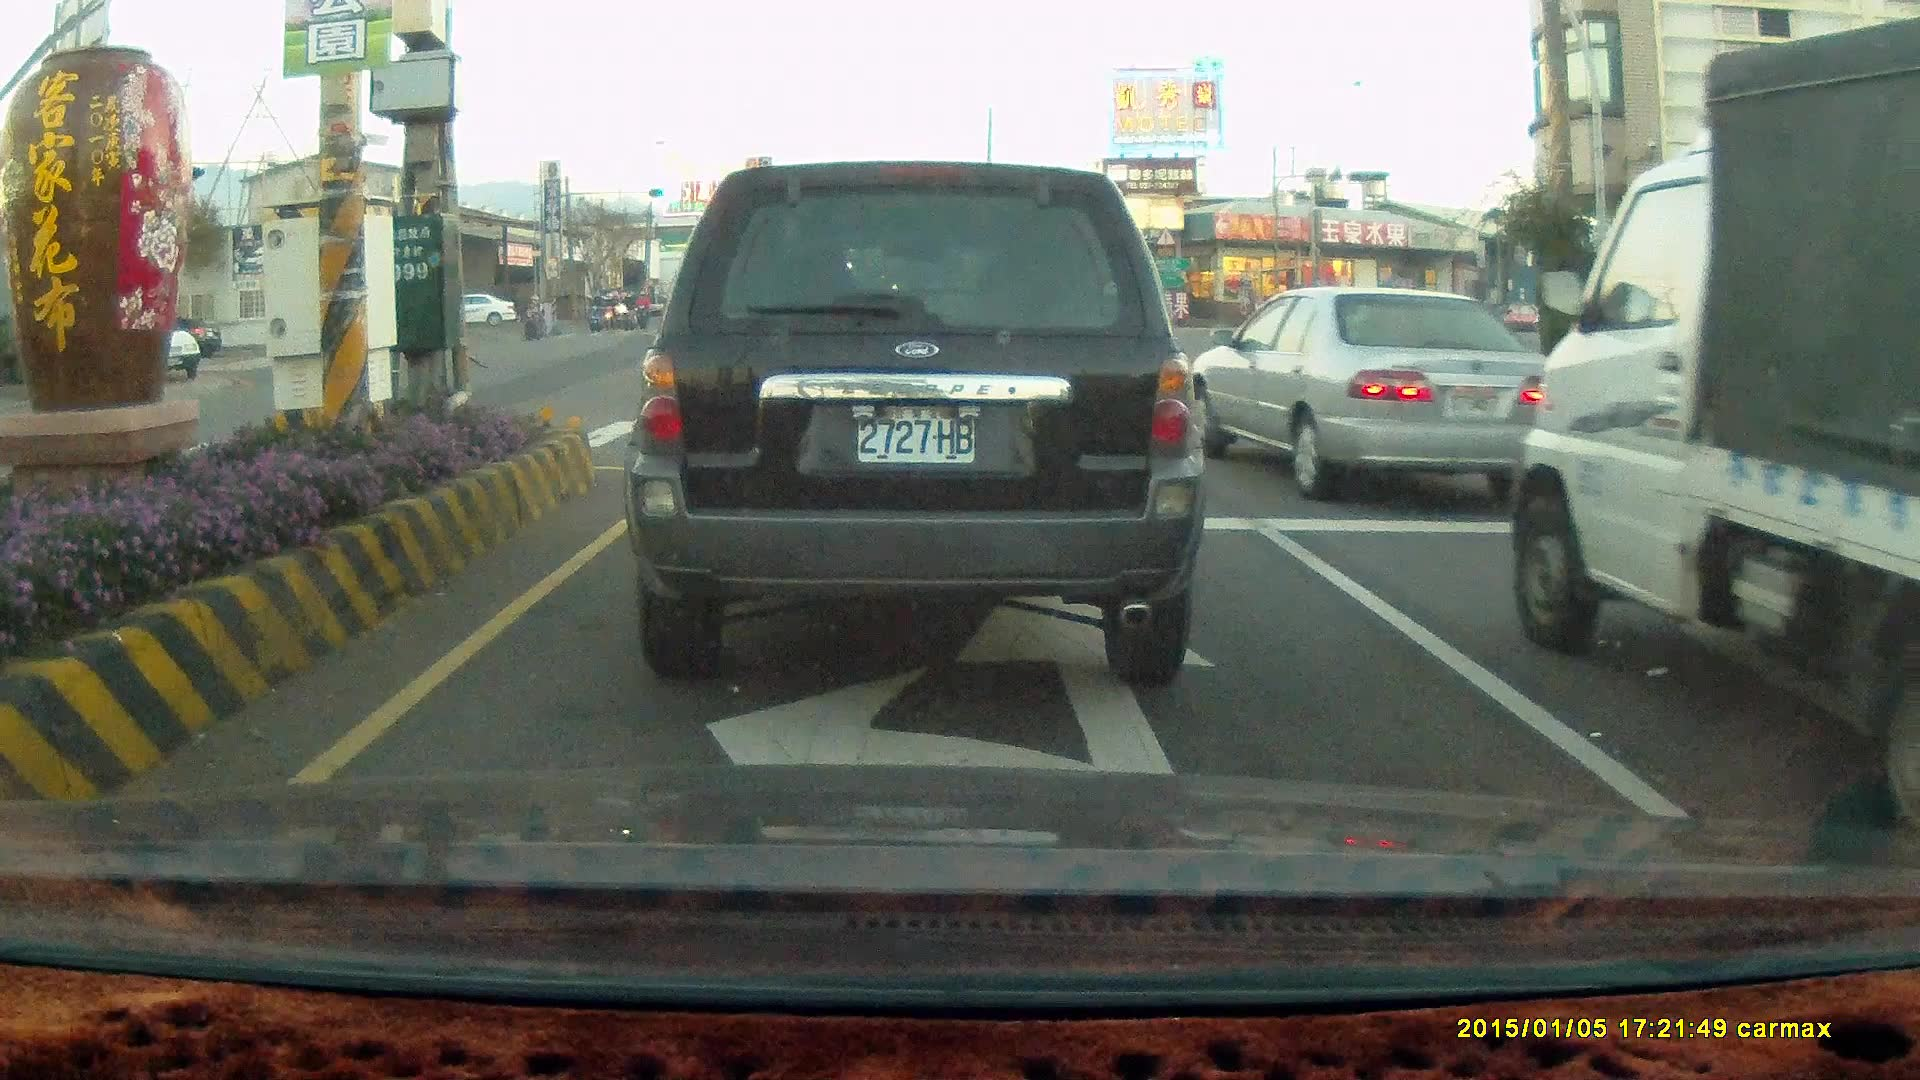rider: (515, 292, 546, 341), (617, 289, 642, 335), (585, 290, 606, 334), (589, 294, 611, 333)
vehicle: (1508, 11, 1920, 845), (621, 159, 1205, 687), (1183, 283, 1561, 501), (1173, 287, 1545, 500), (1677, 282, 1834, 371), (448, 295, 517, 328)
